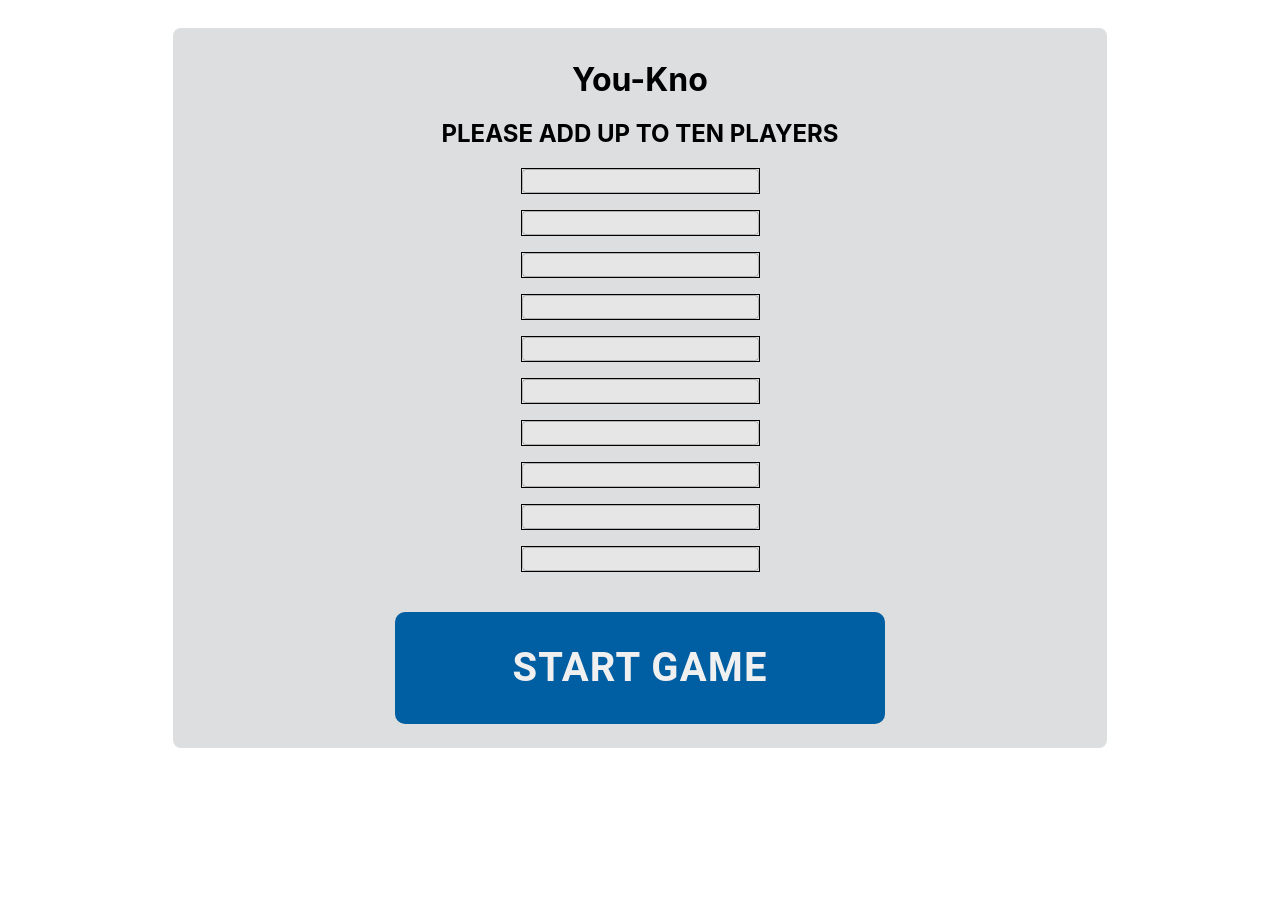
Test: renders a dialog box when not enough player have been entered when the start game button is clicked
Click the button "Start Game". click: point(640, 668)
box: left=395, top=612, right=885, bottom=724
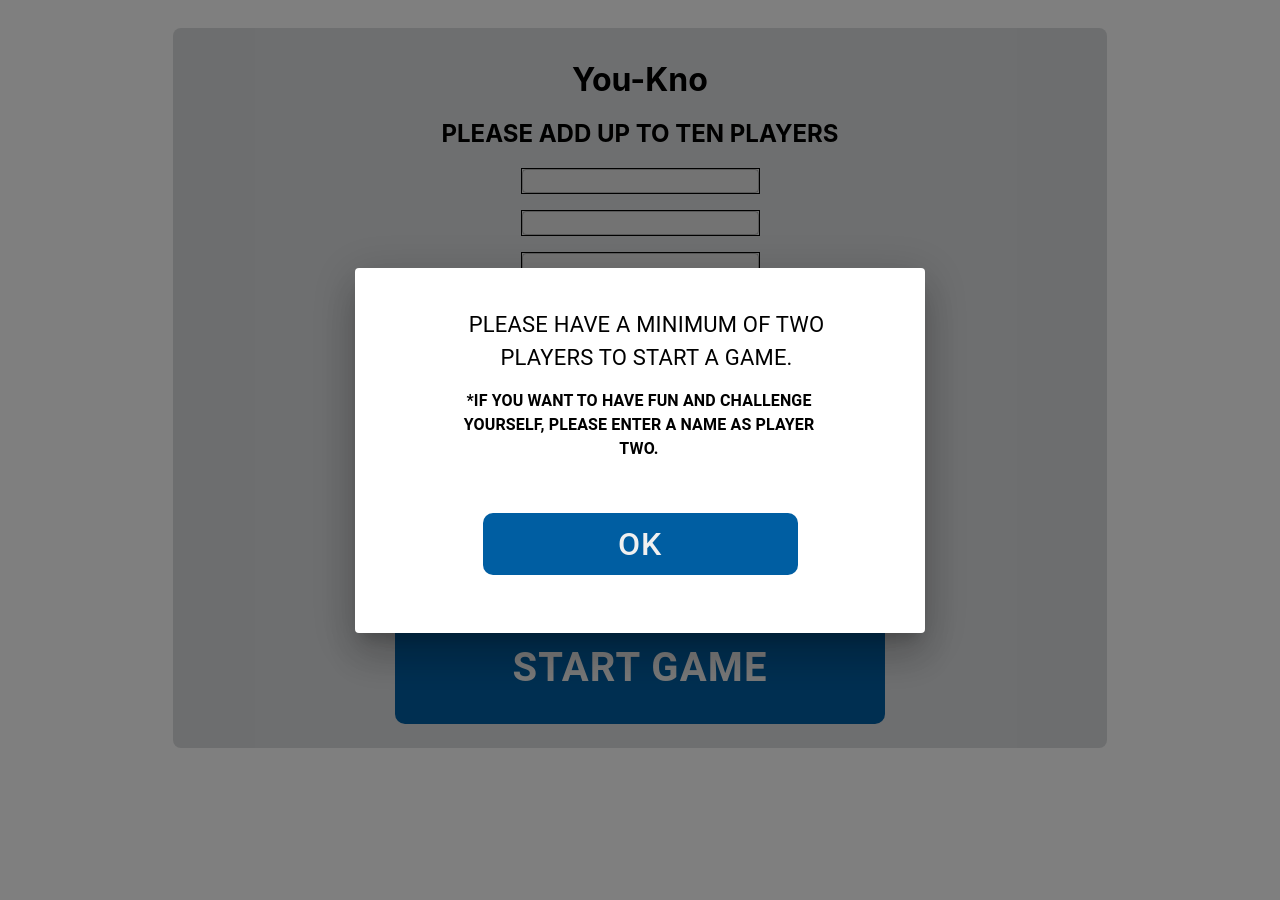
Expected: the text "PLEASE HAVE A MINIMUM OF TWO PLAYERS TO START A GAME." is shown, left=459, top=308, right=834, bottom=374
